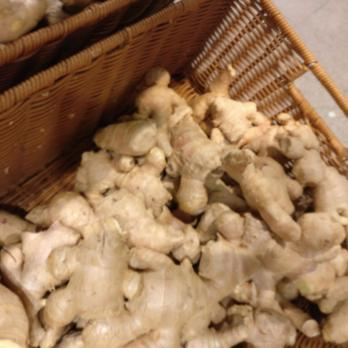Ginger: (0, 195, 348, 348), (79, 122, 348, 194), (127, 72, 280, 123)
